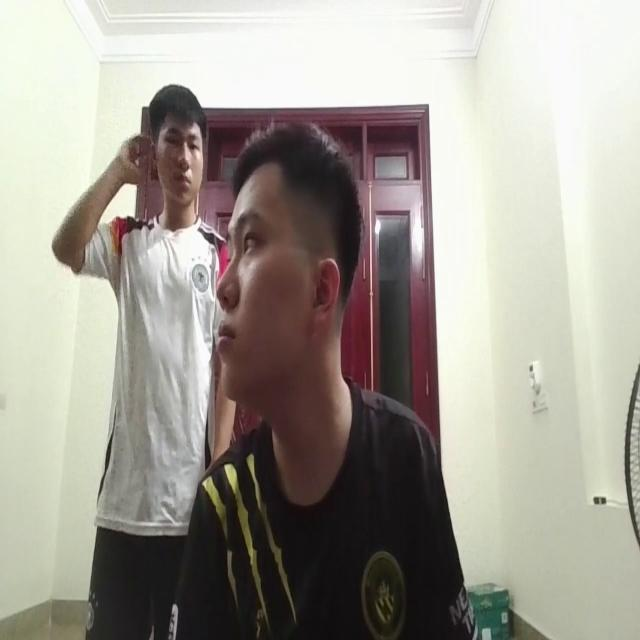extra_person: (49, 88, 214, 601)
student: (186, 113, 474, 640)
